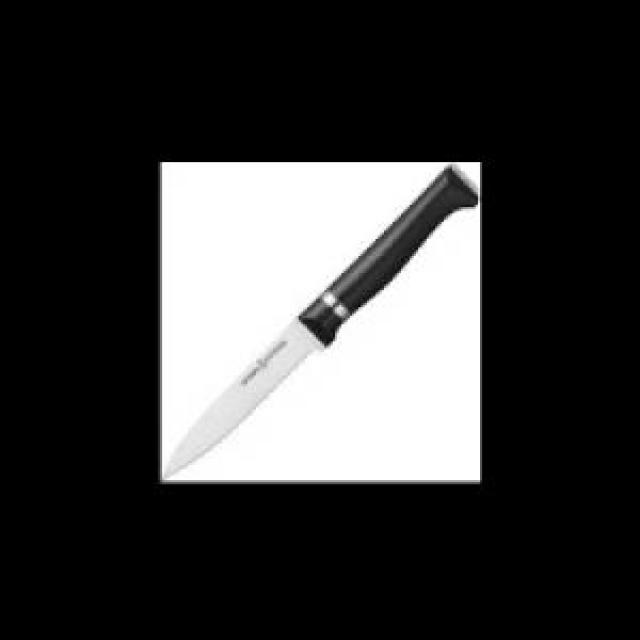knife: (160, 162, 481, 476)
